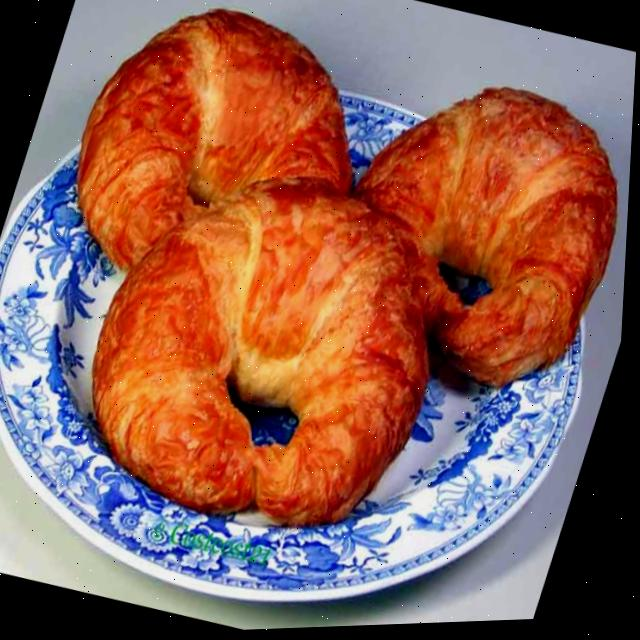面包点心: (41, 127, 495, 571)
